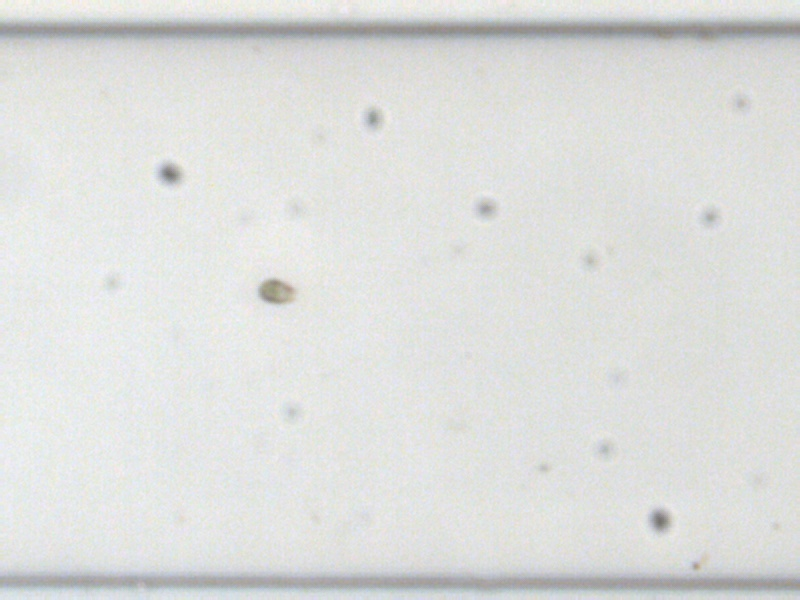Dunaliella salina: (253, 276, 299, 305)
